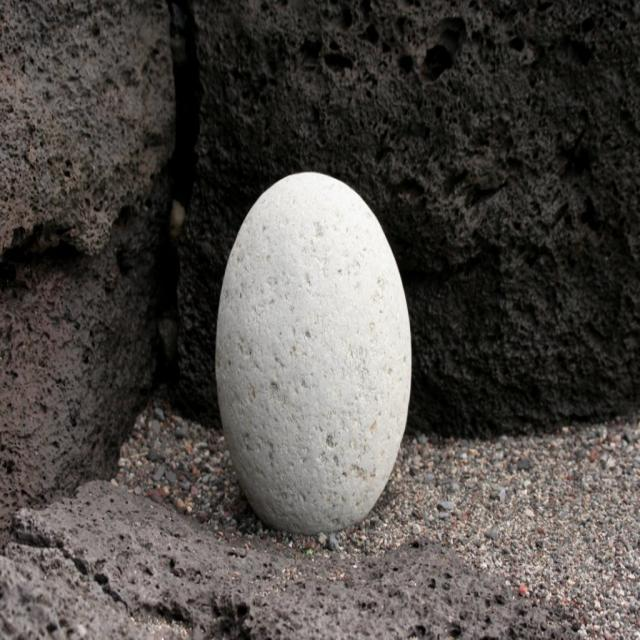Egg: (214, 168, 414, 538)
